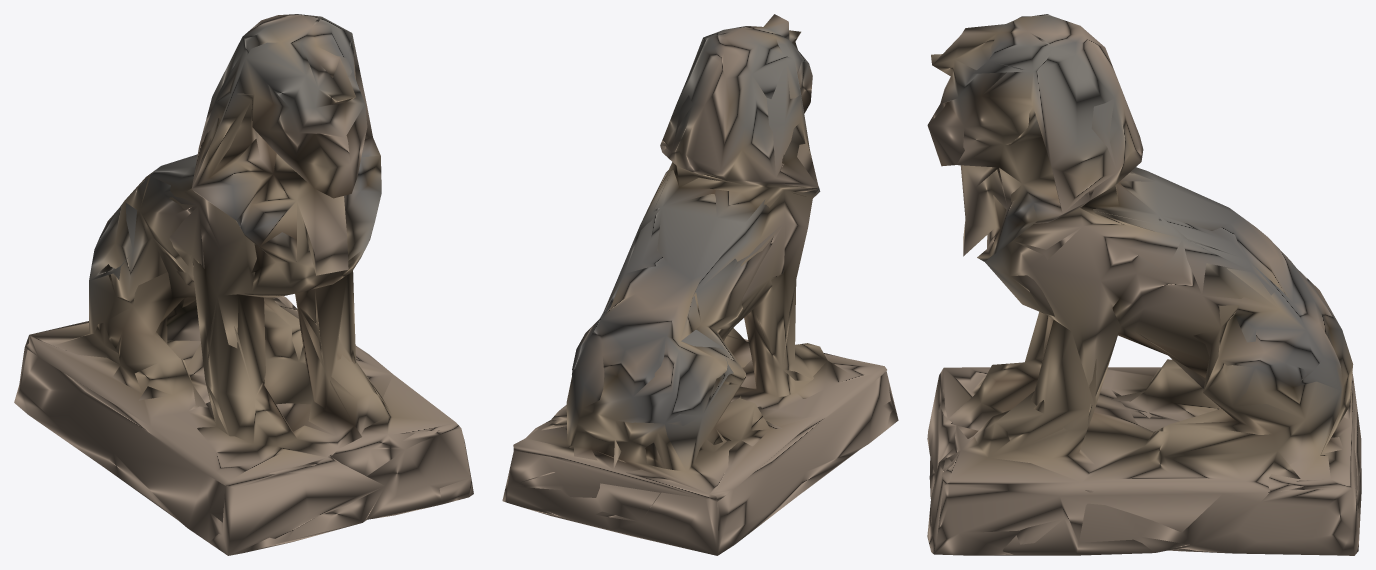
Rendered from gen3d-sphinx-statue-lod0.glb.
3 views of the same model, side by side, from view 1: azimuth 30°, elevation 25°; view 2: azimuth 150°, elevation 25°; view 3: azimuth 270°, elevation 25° (orthographic). The views are drawn at different scales.
Parts seen in each view (by area): view 1: part_0; view 2: part_0; view 3: part_0.
Boxes of the visible parts, x1=… form: part_0: x1=14, y1=14, x2=473, y2=555; part_0: x1=502, y1=14, x2=898, y2=555; part_0: x1=927, y1=14, x2=1361, y2=555.
Size of the model in its own units: 0.5725 by 0.9916 by 0.829.
